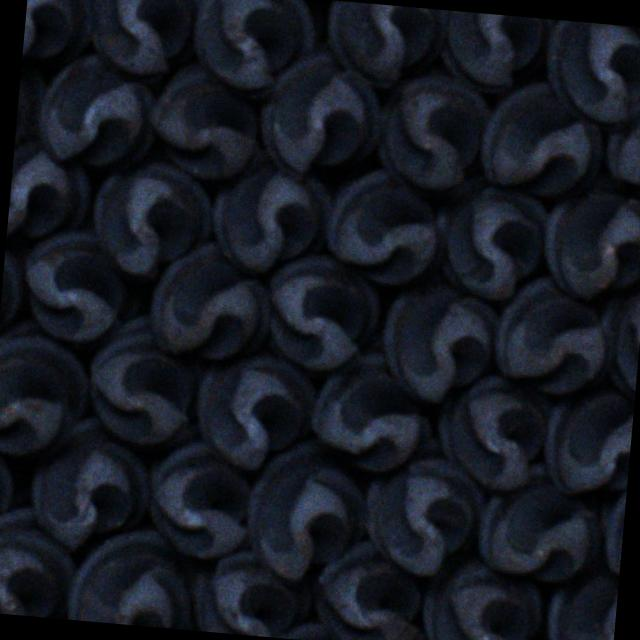tool_b: (244, 436, 374, 586), (356, 434, 488, 580), (80, 291, 202, 446), (24, 414, 154, 552), (258, 48, 390, 182), (472, 458, 606, 588), (208, 149, 338, 279), (85, 156, 214, 284), (477, 78, 608, 204), (146, 236, 275, 363), (306, 348, 432, 478), (140, 423, 256, 561), (192, 348, 320, 471), (376, 282, 500, 408), (427, 176, 550, 302), (32, 50, 158, 173), (319, 164, 442, 289), (262, 249, 384, 375), (372, 70, 492, 197), (432, 368, 554, 491), (492, 272, 613, 396), (145, 62, 265, 184), (64, 526, 198, 630), (0, 318, 95, 463), (15, 228, 130, 346), (309, 537, 434, 640), (540, 180, 640, 304), (186, 0, 315, 93), (190, 542, 312, 638), (322, 0, 446, 90), (537, 18, 640, 125), (542, 381, 635, 496), (416, 556, 542, 640), (435, 10, 553, 94), (5, 139, 91, 246), (86, 0, 205, 77), (0, 507, 77, 619), (593, 269, 640, 405), (546, 563, 619, 640), (21, 0, 94, 65), (12, 42, 48, 166), (602, 84, 640, 198), (592, 469, 628, 585), (0, 224, 29, 348), (0, 429, 16, 542)
